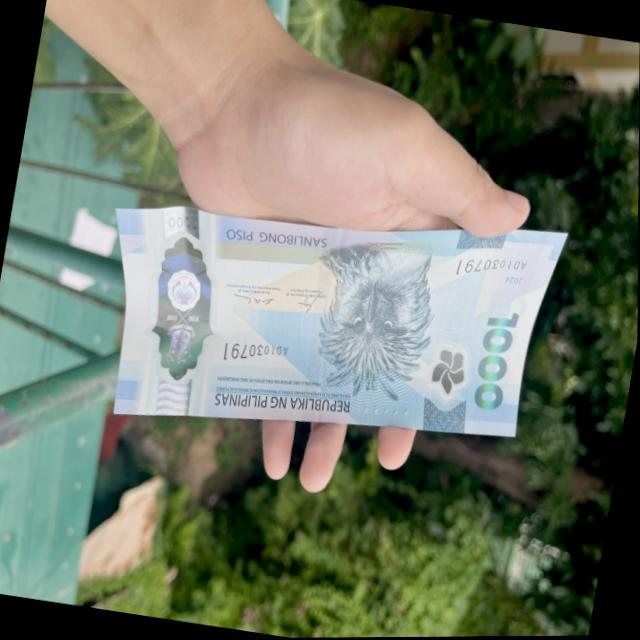clear_window: (129, 205, 236, 419)
eagle: (314, 230, 446, 397)
sampaguita: (423, 320, 480, 402)
security_thread: (296, 225, 344, 423)
serial_number: (214, 324, 301, 385), (454, 248, 531, 286)
